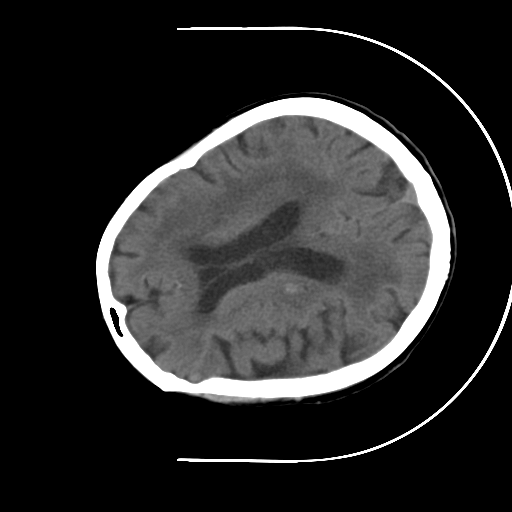a: (265, 267, 320, 315)
